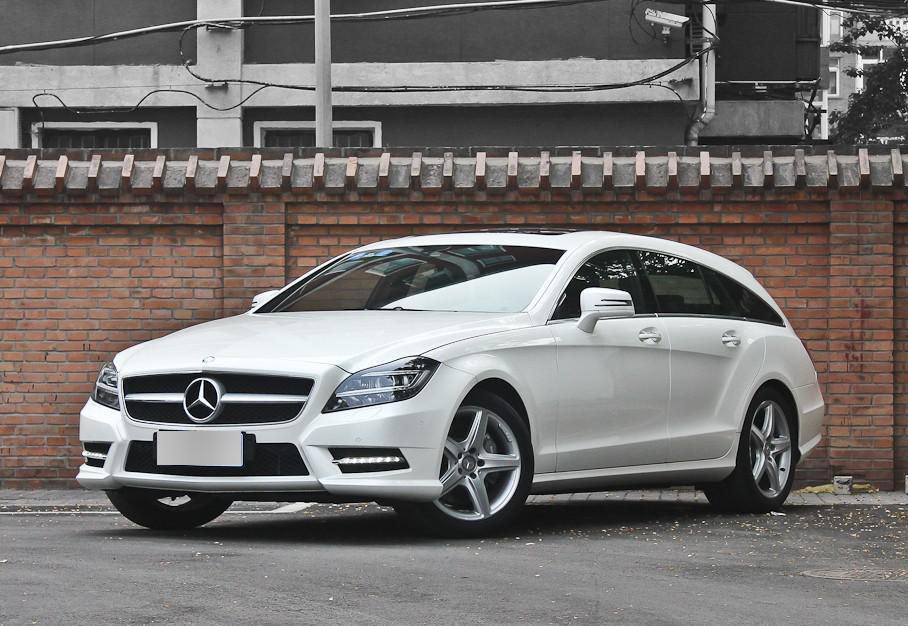Wagon: (73, 229, 826, 537)
